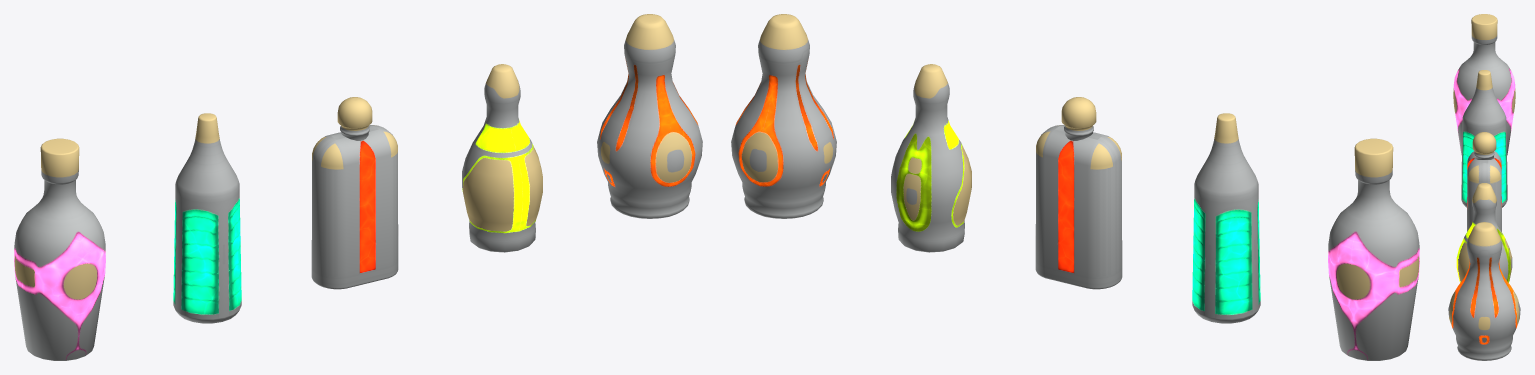
The model's file is BarBottles01_2.FBX.
3 renders of one model, left to right at view 1: azimuth 30°, elevation 25°; view 2: azimuth 150°, elevation 25°; view 3: azimuth 270°, elevation 25°, orthographic. The views are drawn at different scales.
Visible parts, largest first — view 1: BarBottles01_2; view 2: BarBottles01_2; view 3: BarBottles01_2.
Boxes of the visible parts, x1,y1,x2,y2 form: BarBottles01_2: (14, 14, 702, 360); BarBottles01_2: (731, 14, 1419, 360); BarBottles01_2: (1448, 14, 1520, 360).
Size of what is drawn, in the model's own units: 1.1 by 0.3128 by 0.1505.
